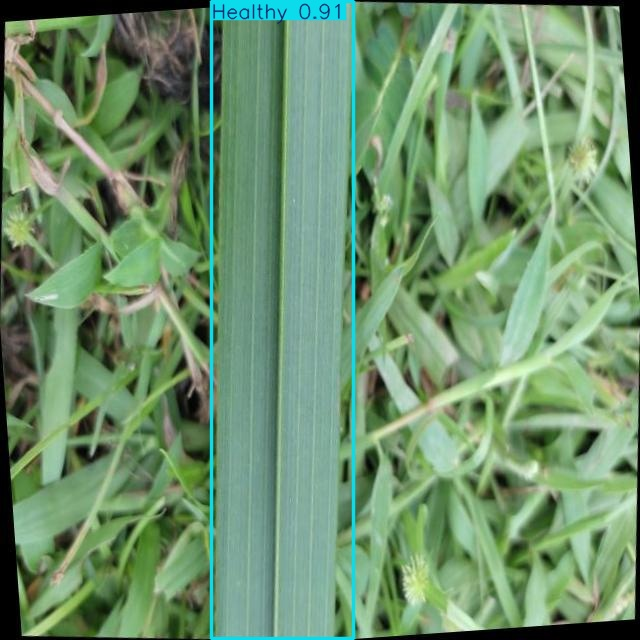Healthy: (212, 2, 353, 638)
